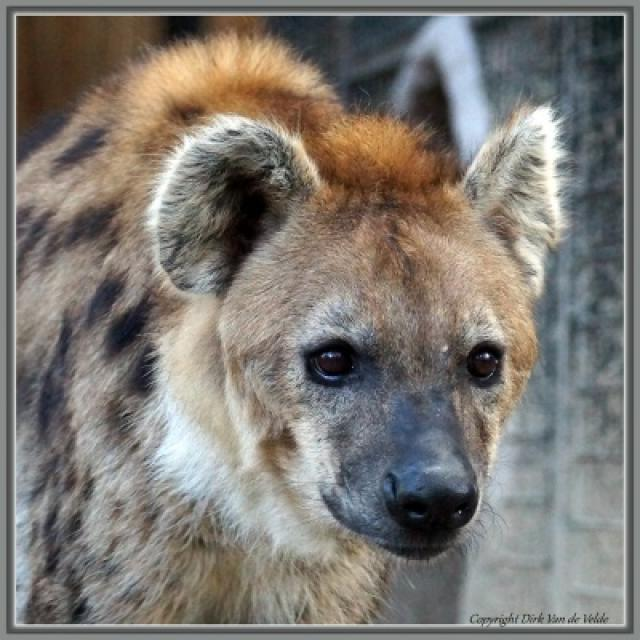hyena: (14, 29, 568, 626)
